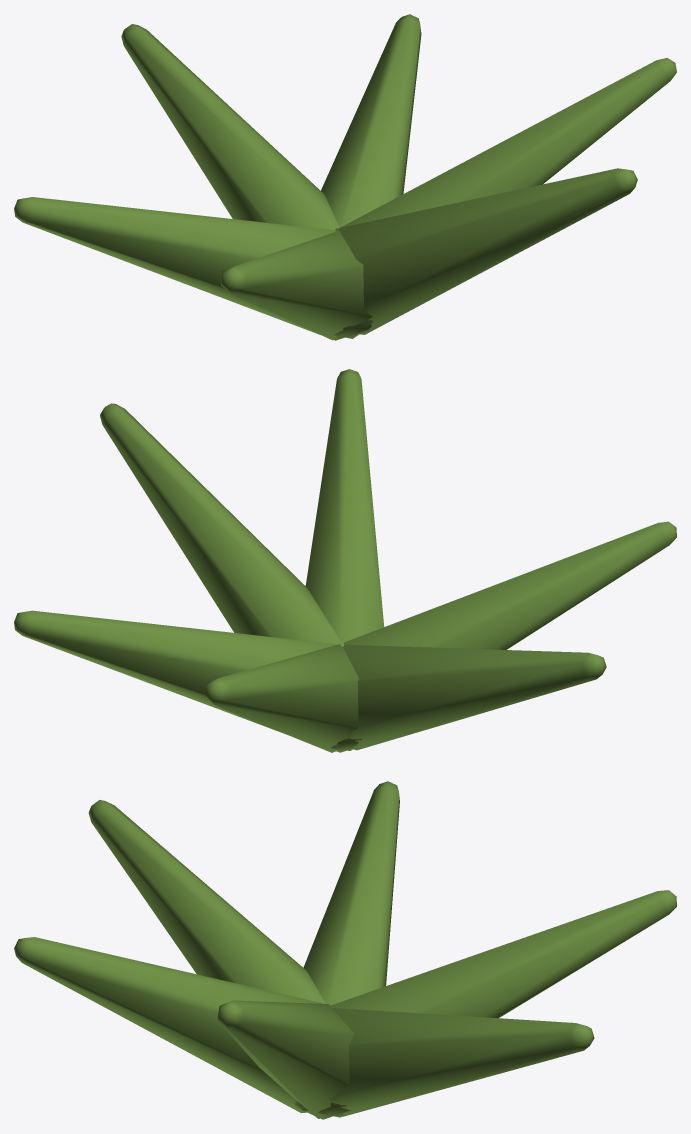
File: prop_fern1_76ff.glb
The picture shows the model from 3 angles, top to bottom: view 1: azimuth 30°, elevation 25°; view 2: azimuth 150°, elevation 25°; view 3: azimuth 270°, elevation 25°; orthographic projection. The views are drawn at different scales.
Parts seen in each view (by area): view 1: prop_fern1_76ff; view 2: prop_fern1_76ff; view 3: prop_fern1_76ff.
Boxes of the visible parts, <box> form: prop_fern1_76ff: <box>14,14,676,340</box>; prop_fern1_76ff: <box>14,369,676,752</box>; prop_fern1_76ff: <box>14,781,676,1119</box>.
Bounding box in the file's own units: 0.6255 × 0.2498 × 0.6036.
1 material, 1 textured.
